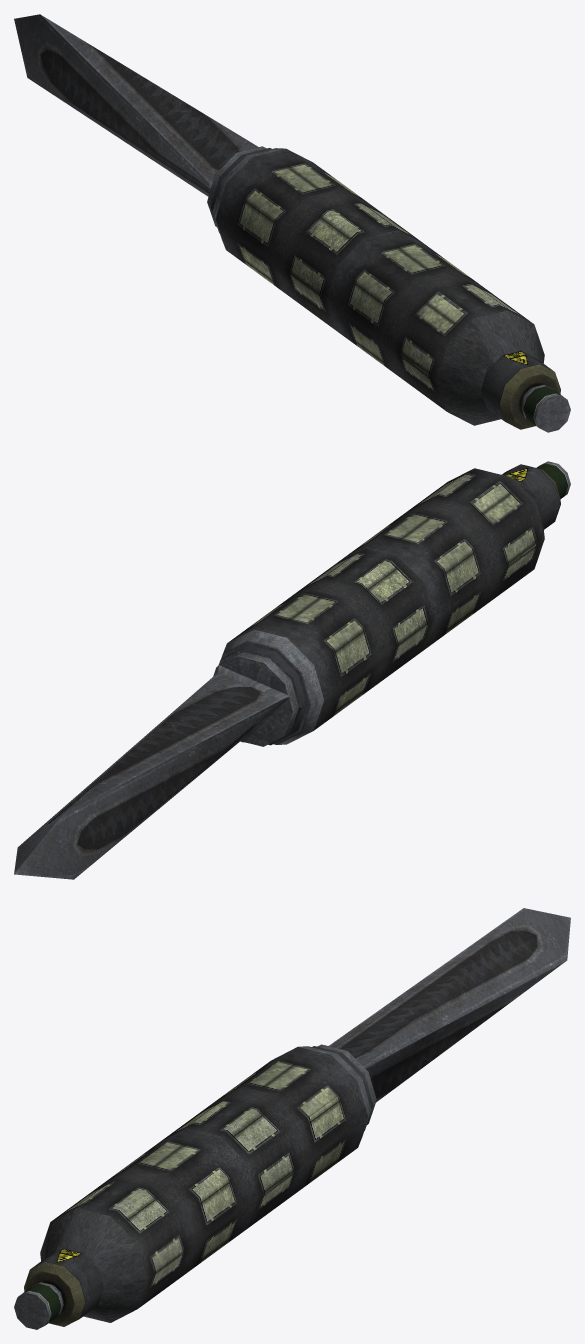
File: t6_wpn_taser_mine_world_LOD2.obj
3 renders of one model, top to bottom at view 1: azimuth 30°, elevation 25°; view 2: azimuth 150°, elevation 25°; view 3: azimuth 330°, elevation 25°, orthographic.
Visible parts, largest first — view 1: mtl_t6_wpn_taser_mine; view 2: mtl_t6_wpn_taser_mine; view 3: mtl_t6_wpn_taser_mine.
Part boxes in pixels (x1,y1,x2,y2): mtl_t6_wpn_taser_mine: (14, 14, 570, 432); mtl_t6_wpn_taser_mine: (14, 461, 570, 879); mtl_t6_wpn_taser_mine: (14, 908, 570, 1329).
Size of the model in its own units: 3.64 by 3.46 by 31.59.
